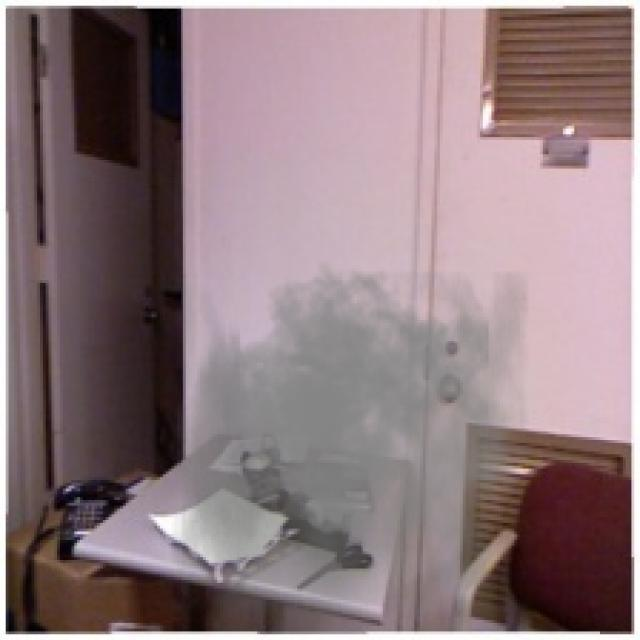Smoke: (172, 259, 528, 632)
